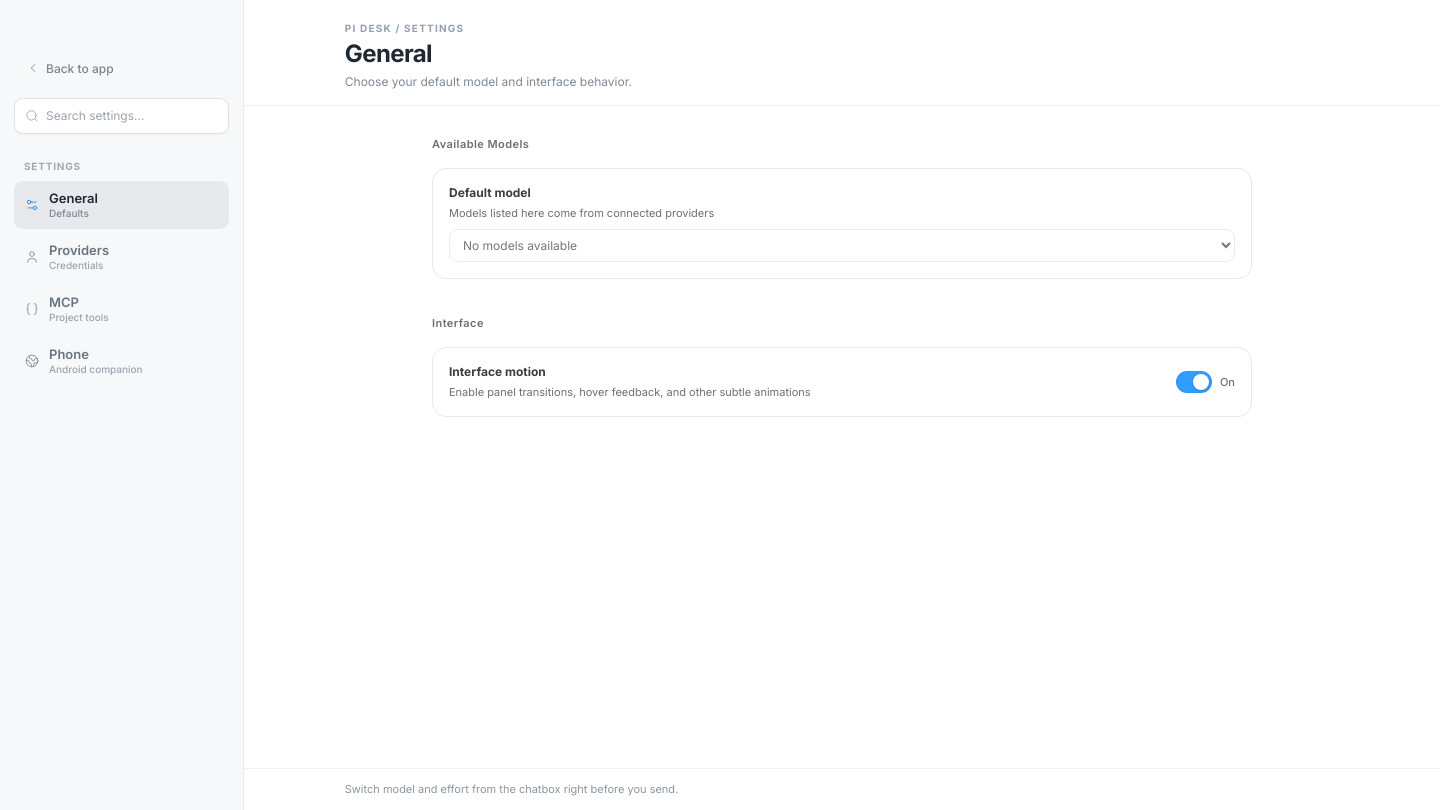
Scenario: SettingsDialog › MCP tab imports servers from Cursor and refreshes
What coordinates should you click on to do the following:
click the tab "MCP Project tools"
I would click on:
 (122, 309)
Its box is left=14, top=285, right=229, bottom=333.
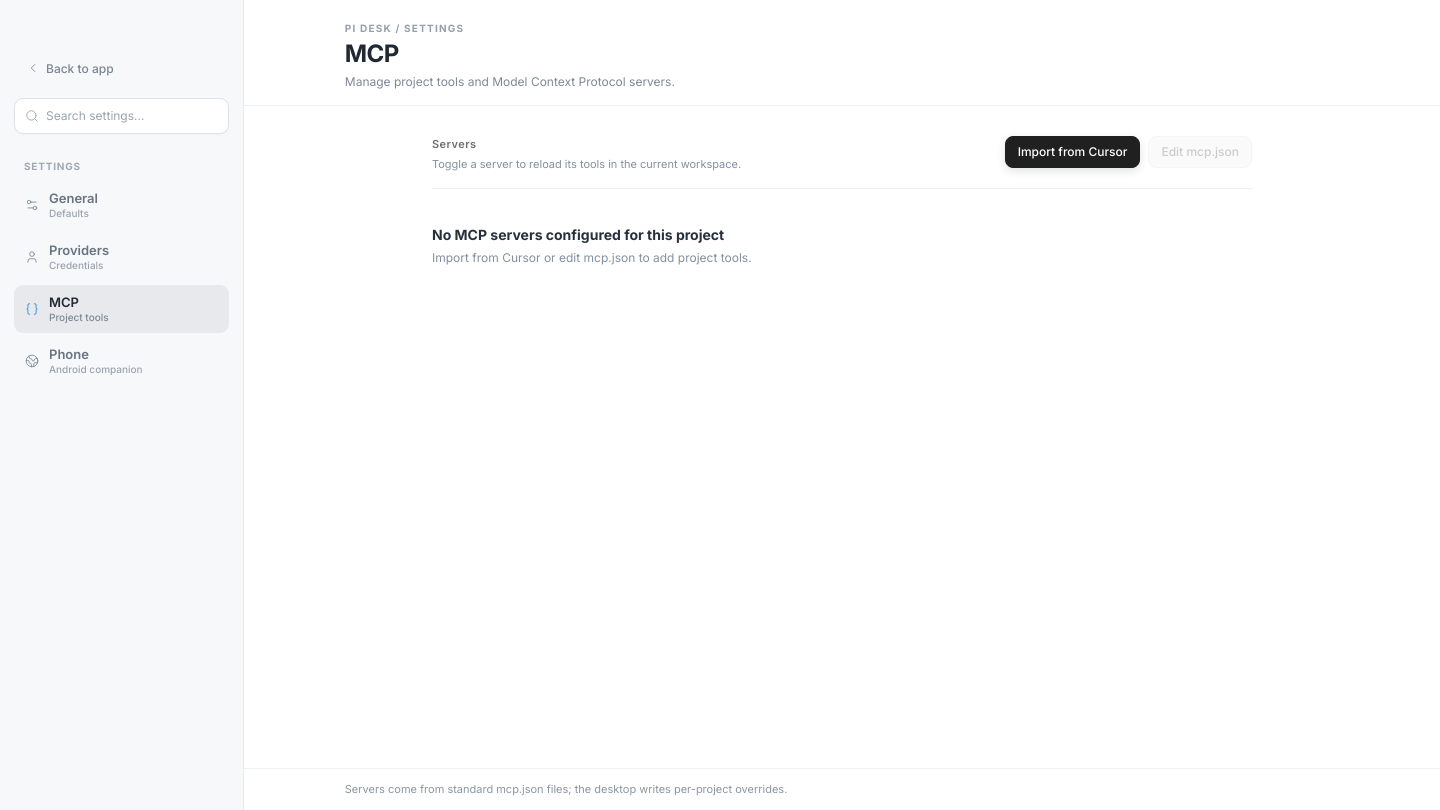
What coordinates should you click on to do the following:
click the button "Import from Cursor"
I would click on:
 (1072, 152)
Its box is left=1005, top=136, right=1140, bottom=168.
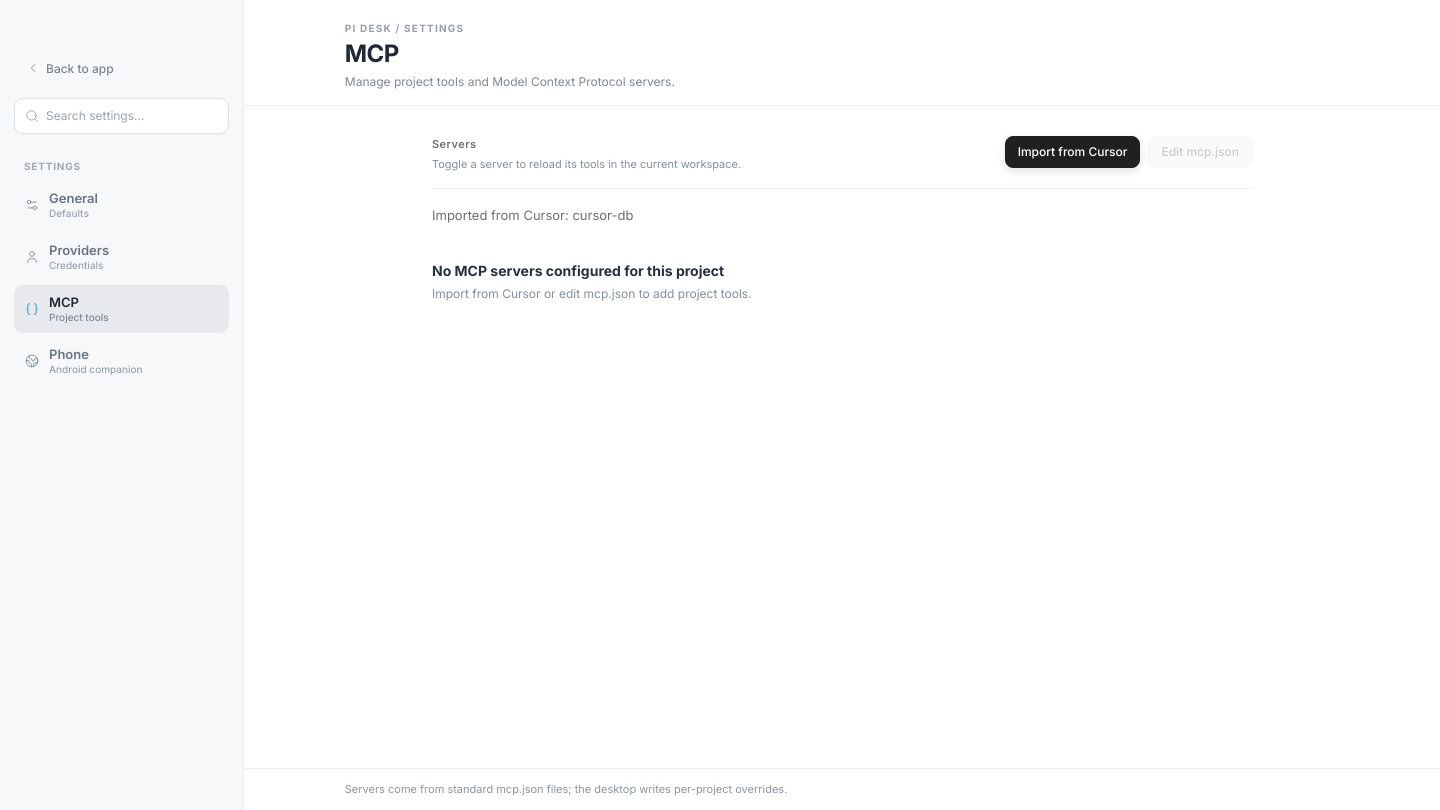
Expected: the text "Imported from Cursor: cursor-db" is shown, left=432, top=207, right=633, bottom=223
